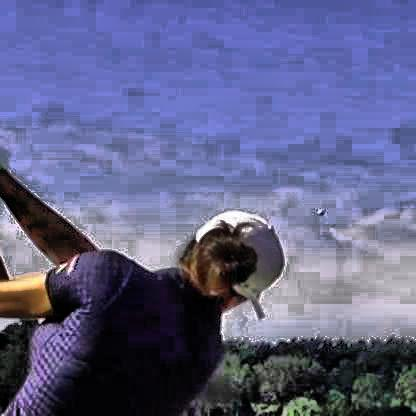golfball: (314, 207, 321, 214)
